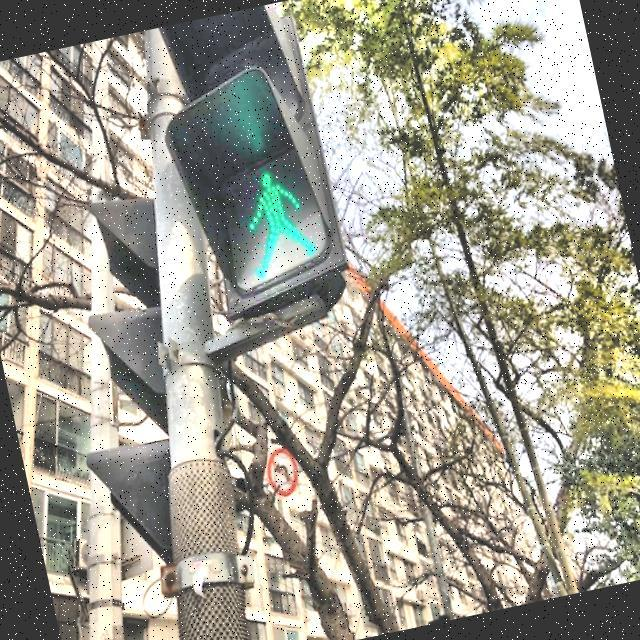green_light: (228, 157, 324, 284)
